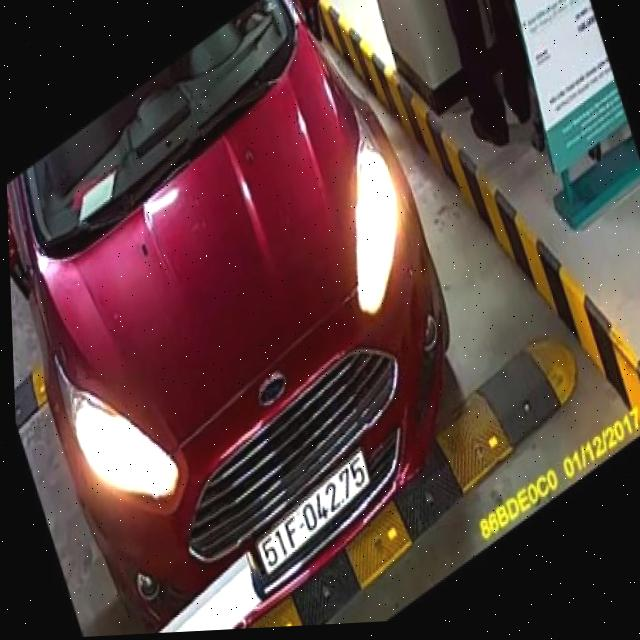car: (0, 0, 469, 640)
plate: (249, 446, 378, 577)
